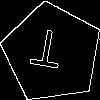T: (27, 28, 65, 78)
